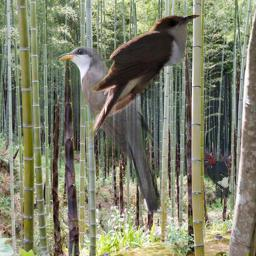Cuckoo: (55, 43, 166, 217), (88, 12, 201, 146)
Woodpecker: (201, 153, 233, 199)
